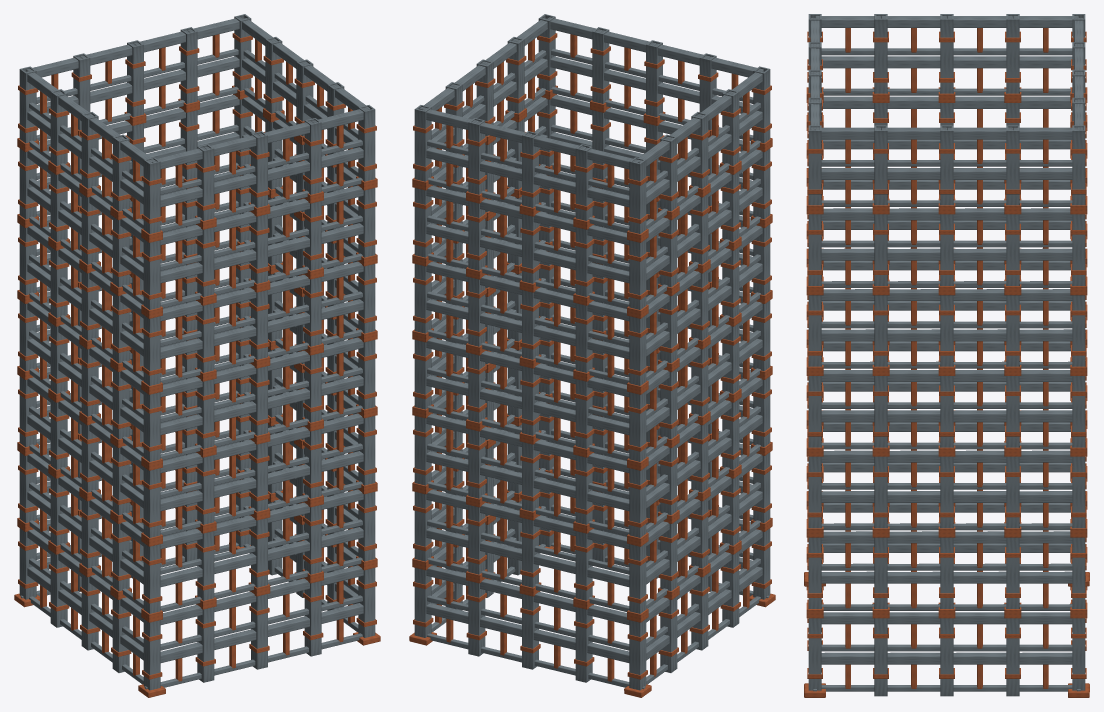
3 views of the same model, side by side, from view 1: azimuth 30°, elevation 25°; view 2: azimuth 150°, elevation 25°; view 3: azimuth 270°, elevation 25° (orthographic). The views are drawn at different scales.
Parts seen in each view (by area): view 1: Tier 6 side 0 post 0, Tier 0 side 0 post 0, Tier 5 side 0 post 0, Tier 4 side 0 post 0, Tier 1 side 0 post 0, Tier 3 side 0 post 0, Tier 2 side 0 post 0, Tier 6 side 1 post 0, Tier 6 side 0 post 1, Tier 0 side 0 post 1, Tier 6 side 0 post 3, Tier 6 side 2 post 1 (+61 smaller); view 2: Tier 6 side 3 post 0, Tier 0 side 3 post 0, Tier 5 side 3 post 0, Tier 4 side 3 post 0, Tier 1 side 3 post 0, Tier 2 side 3 post 0, Tier 3 side 3 post 0, Tier 6 side 2 post 3, Tier 6 side 2 post 0, Tier 0 side 2 post 3, Tier 6 side 2 post 1, Tier 6 side 0 post 3 (+61 smaller); view 3: Tier 6 side 1 post 1, Tier 6 side 1 post 2, Tier 6 side 1 post 3, Tier 6 side 1 post 0, Tier 6 side 2 post 0, Tier 0 side 1 post 1, Tier 0 side 1 post 2, Tier 0 side 1 post 3, Tier 6 side 3 post 1, Tier 6 side 3 post 3, Tier 6 side 3 post 2, Tier 2 side 1 post 1 (+132 smaller).
Part boxes in pixels (x1,y1,x2,y2): Tier 6 side 0 post 0: (143,157,160,233); Tier 0 side 0 post 0: (143,619,160,690); Tier 5 side 0 post 0: (143,239,160,309); Tier 4 side 0 post 0: (143,315,160,385); Tier 1 side 0 post 0: (143,543,160,613); Tier 3 side 0 post 0: (143,391,160,461); Tier 2 side 0 post 0: (143,467,160,537); Tier 6 side 1 post 0: (358,105,375,181); Tier 6 side 0 post 1: (197,144,214,220); Tier 0 side 0 post 1: (197,607,214,682); Tier 6 side 0 post 3: (304,118,321,194); Tier 6 side 2 post 1: (180,27,197,103); Tier 6 side 3 post 0: (629,157,646,233); Tier 0 side 3 post 0: (629,619,646,690); Tier 5 side 3 post 0: (629,239,646,309); Tier 4 side 3 post 0: (629,315,646,385); Tier 1 side 3 post 0: (629,543,646,613); Tier 2 side 3 post 0: (629,467,646,537); Tier 3 side 3 post 0: (629,391,646,461); Tier 6 side 2 post 3: (575,144,592,220); Tier 6 side 2 post 0: (414,105,431,181); Tier 0 side 2 post 3: (575,607,592,682); Tier 6 side 2 post 1: (468,118,485,194); Tier 6 side 0 post 3: (592,27,609,103); Tier 6 side 1 post 1: (874,125,887,205); Tier 6 side 1 post 2: (940,125,953,205); Tier 6 side 1 post 3: (1006,125,1019,205); Tier 6 side 1 post 0: (808,125,821,205); Tier 6 side 2 post 0: (1072,125,1085,205); Tier 0 side 1 post 1: (874,618,887,696); Tier 0 side 1 post 2: (940,618,953,696); Tier 0 side 1 post 3: (1006,618,1019,696); Tier 6 side 3 post 1: (1006,14,1019,93); Tier 6 side 3 post 3: (874,14,887,93); Tier 6 side 3 post 2: (940,14,953,93); Tier 2 side 1 post 1: (874,456,887,528).
Bounding box in the file's own units: 1.95 × 4.26 × 1.95.
Materials: 2 (2 with a texture image).
